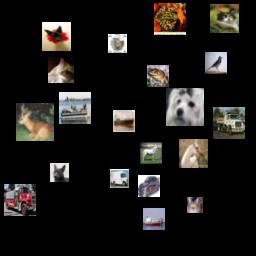automobile: (138, 175, 160, 197)
bird: (205, 52, 227, 74)
cat: (210, 4, 239, 33), (48, 57, 74, 83), (108, 34, 127, 53), (187, 197, 203, 213)
deer: (16, 103, 54, 141)
dog: (166, 88, 204, 126), (42, 22, 71, 51), (50, 163, 69, 182)
frog: (154, 3, 186, 35), (147, 65, 169, 87)
ship: (59, 92, 91, 124), (143, 208, 165, 230), (113, 110, 135, 132)
truck: (213, 107, 245, 139), (4, 184, 36, 216), (110, 169, 129, 188)
